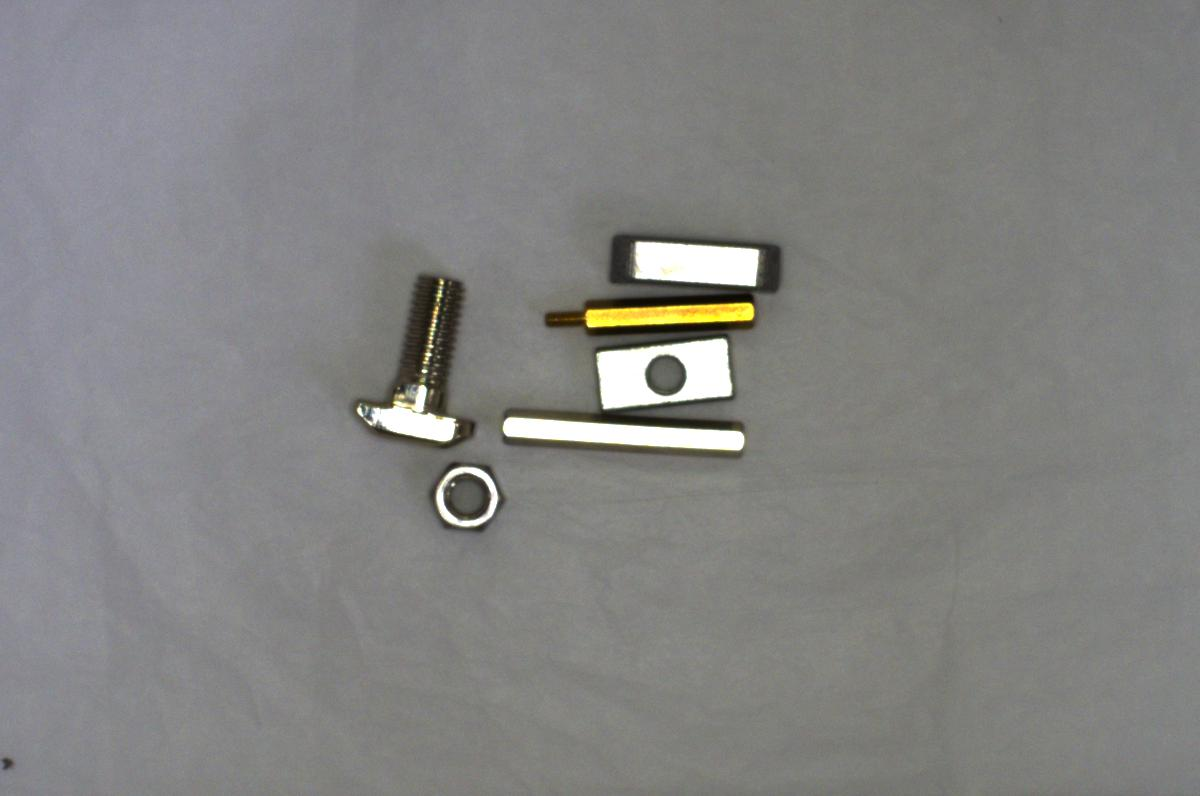Double hexagonal column: (497, 402, 764, 466)
Hexagon nut: (422, 454, 505, 532)
Hexagon pillar: (537, 281, 772, 341)
Keybar: (601, 223, 786, 295)
Rectangular nut: (588, 334, 742, 416)
T-shaped screw: (344, 267, 484, 442)
